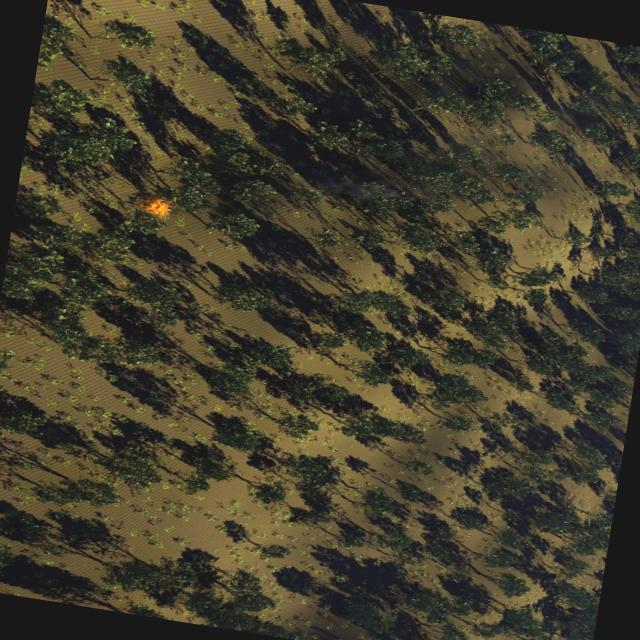fire: (138, 197, 170, 219)
smoke: (312, 173, 398, 210)
